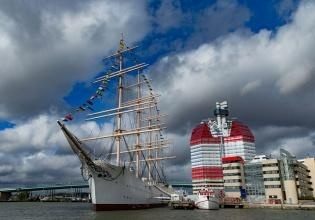fanchuan: (53, 41, 171, 209)
